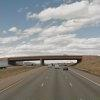Bridge: (7, 48, 83, 63)
